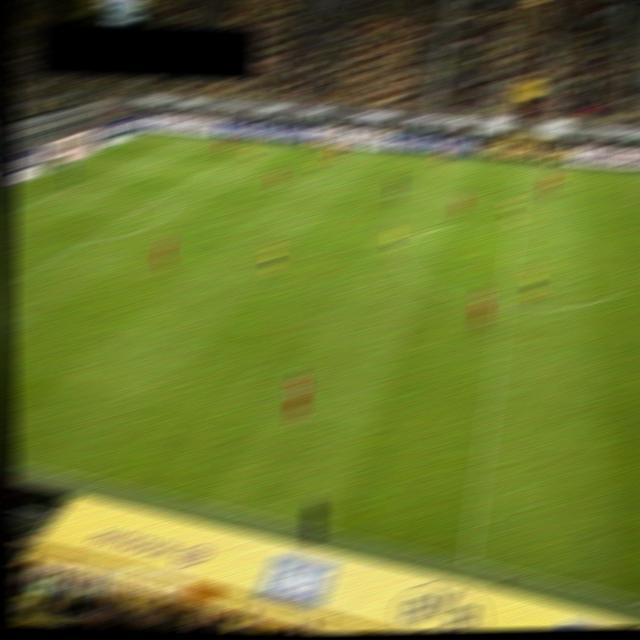bigarea_top_inner: (202, 162, 222, 173)
bigarea_top_outter: (82, 151, 103, 162)
bottom_arc_area_intersection: (72, 238, 92, 249)
corner: (137, 130, 157, 141)
halfcircle_bottom: (493, 300, 514, 311)
halfcircle_top: (504, 221, 524, 232)
midline_bottom_intersection: (457, 554, 481, 570)
midline_top_intersection: (511, 161, 531, 171)
smallarea_top_inner: (69, 178, 90, 189)
smallarea_top_outter: (26, 173, 47, 183)
top_arc_area_intersection: (151, 191, 173, 203)
